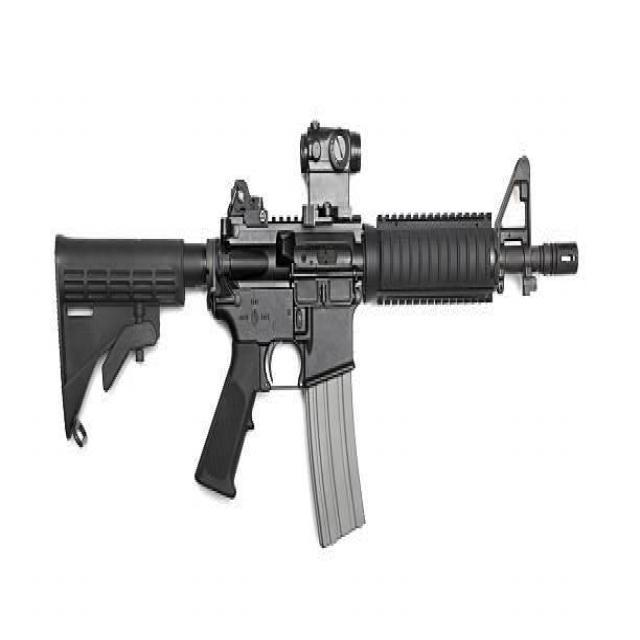weapon: (54, 120, 578, 550)
